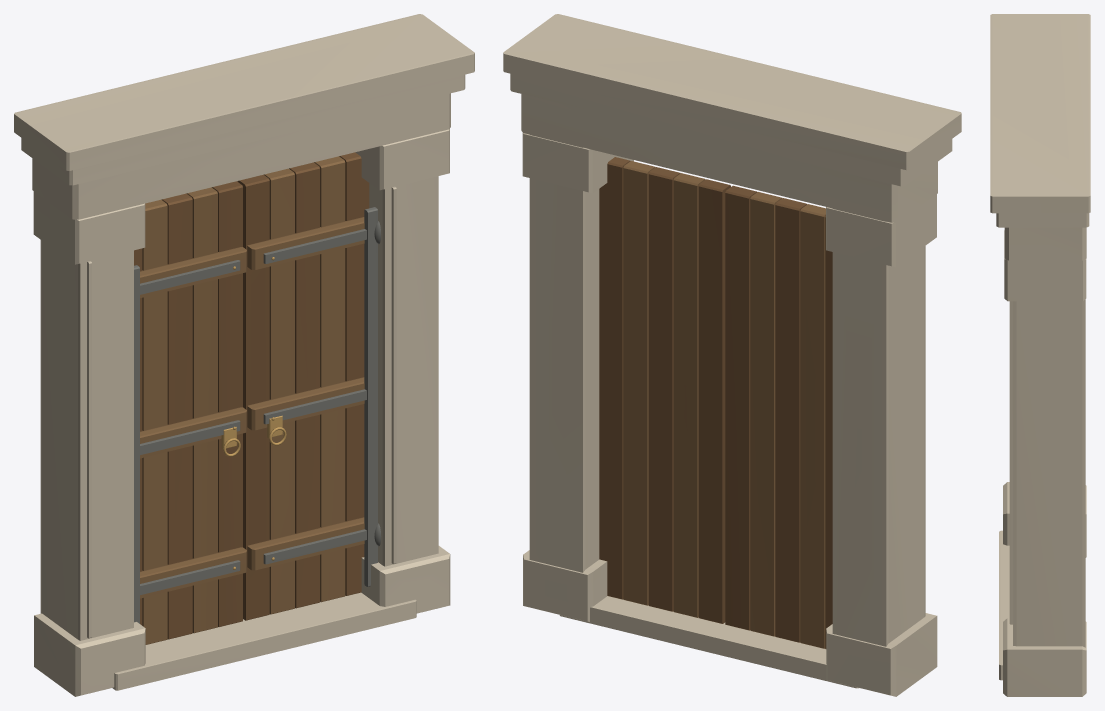
File: portal_lod2.glb
3 renders of one model, left to right at view 1: azimuth 30°, elevation 25°; view 2: azimuth 150°, elevation 25°; view 3: azimuth 270°, elevation 25°, orthographic. The views are drawn at different scales.
Parts seen in each view (by area): view 1: Viva_Taberna_Portal; view 2: Viva_Taberna_Portal; view 3: Viva_Taberna_Portal.
Part boxes in pixels (left/top/right/bottom): Viva_Taberna_Portal: left=14, top=14, right=474, bottom=696; Viva_Taberna_Portal: left=503, top=14, right=961, bottom=696; Viva_Taberna_Portal: left=990, top=14, right=1090, bottom=696.
Bounding box in the file's own units: 2.32 × 3.01 × 0.54.
